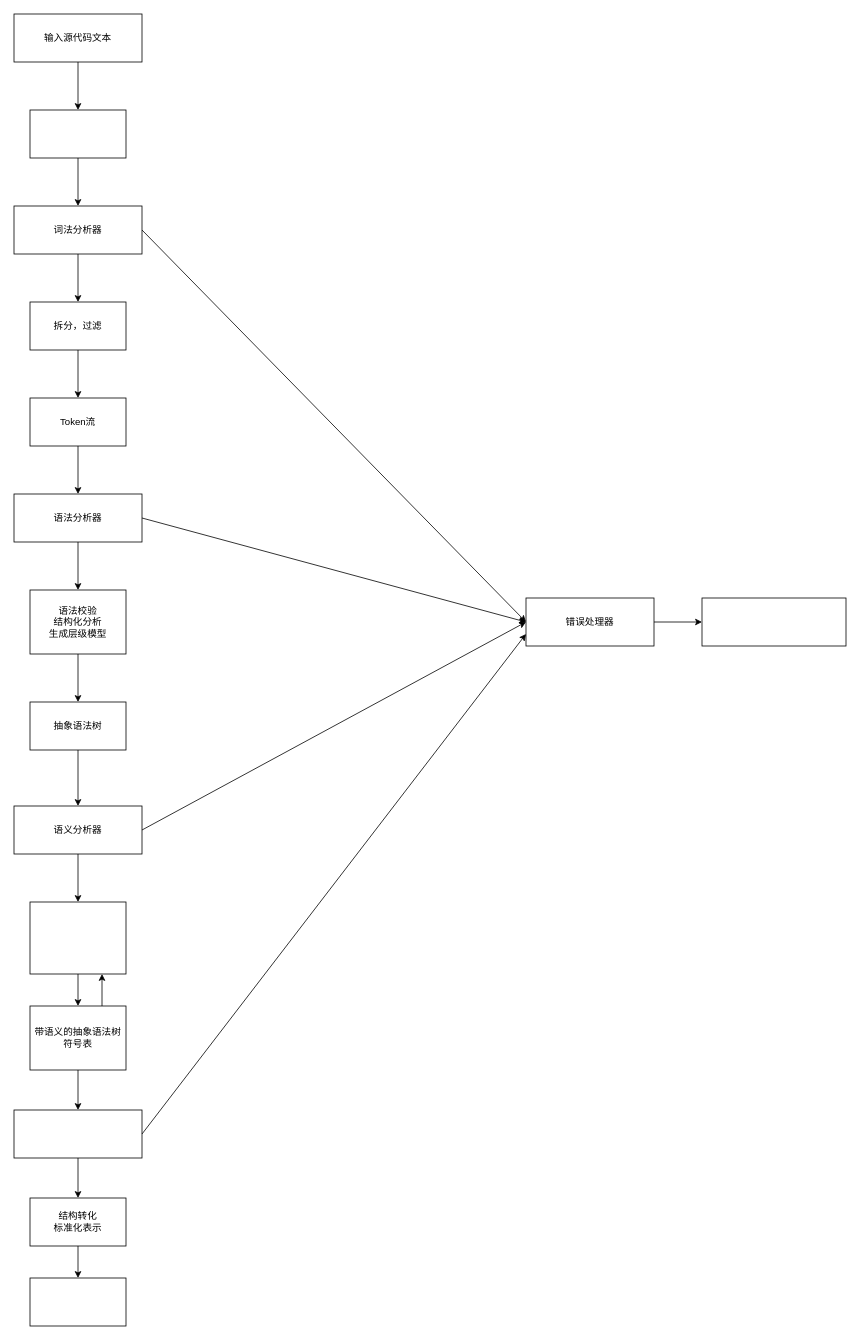
The diagram is 860 pixels wide and 1340 high, and some of its shapes have lost their labels. The centre of each missing label's shape, as x and y in pixels:
中间代码: [77,1301]
中间代码生成器: [77,1133]
字符流输入: [77,133]
语义校验 信息补充 构建结构: [77,937]
错误报告: [773,621]
